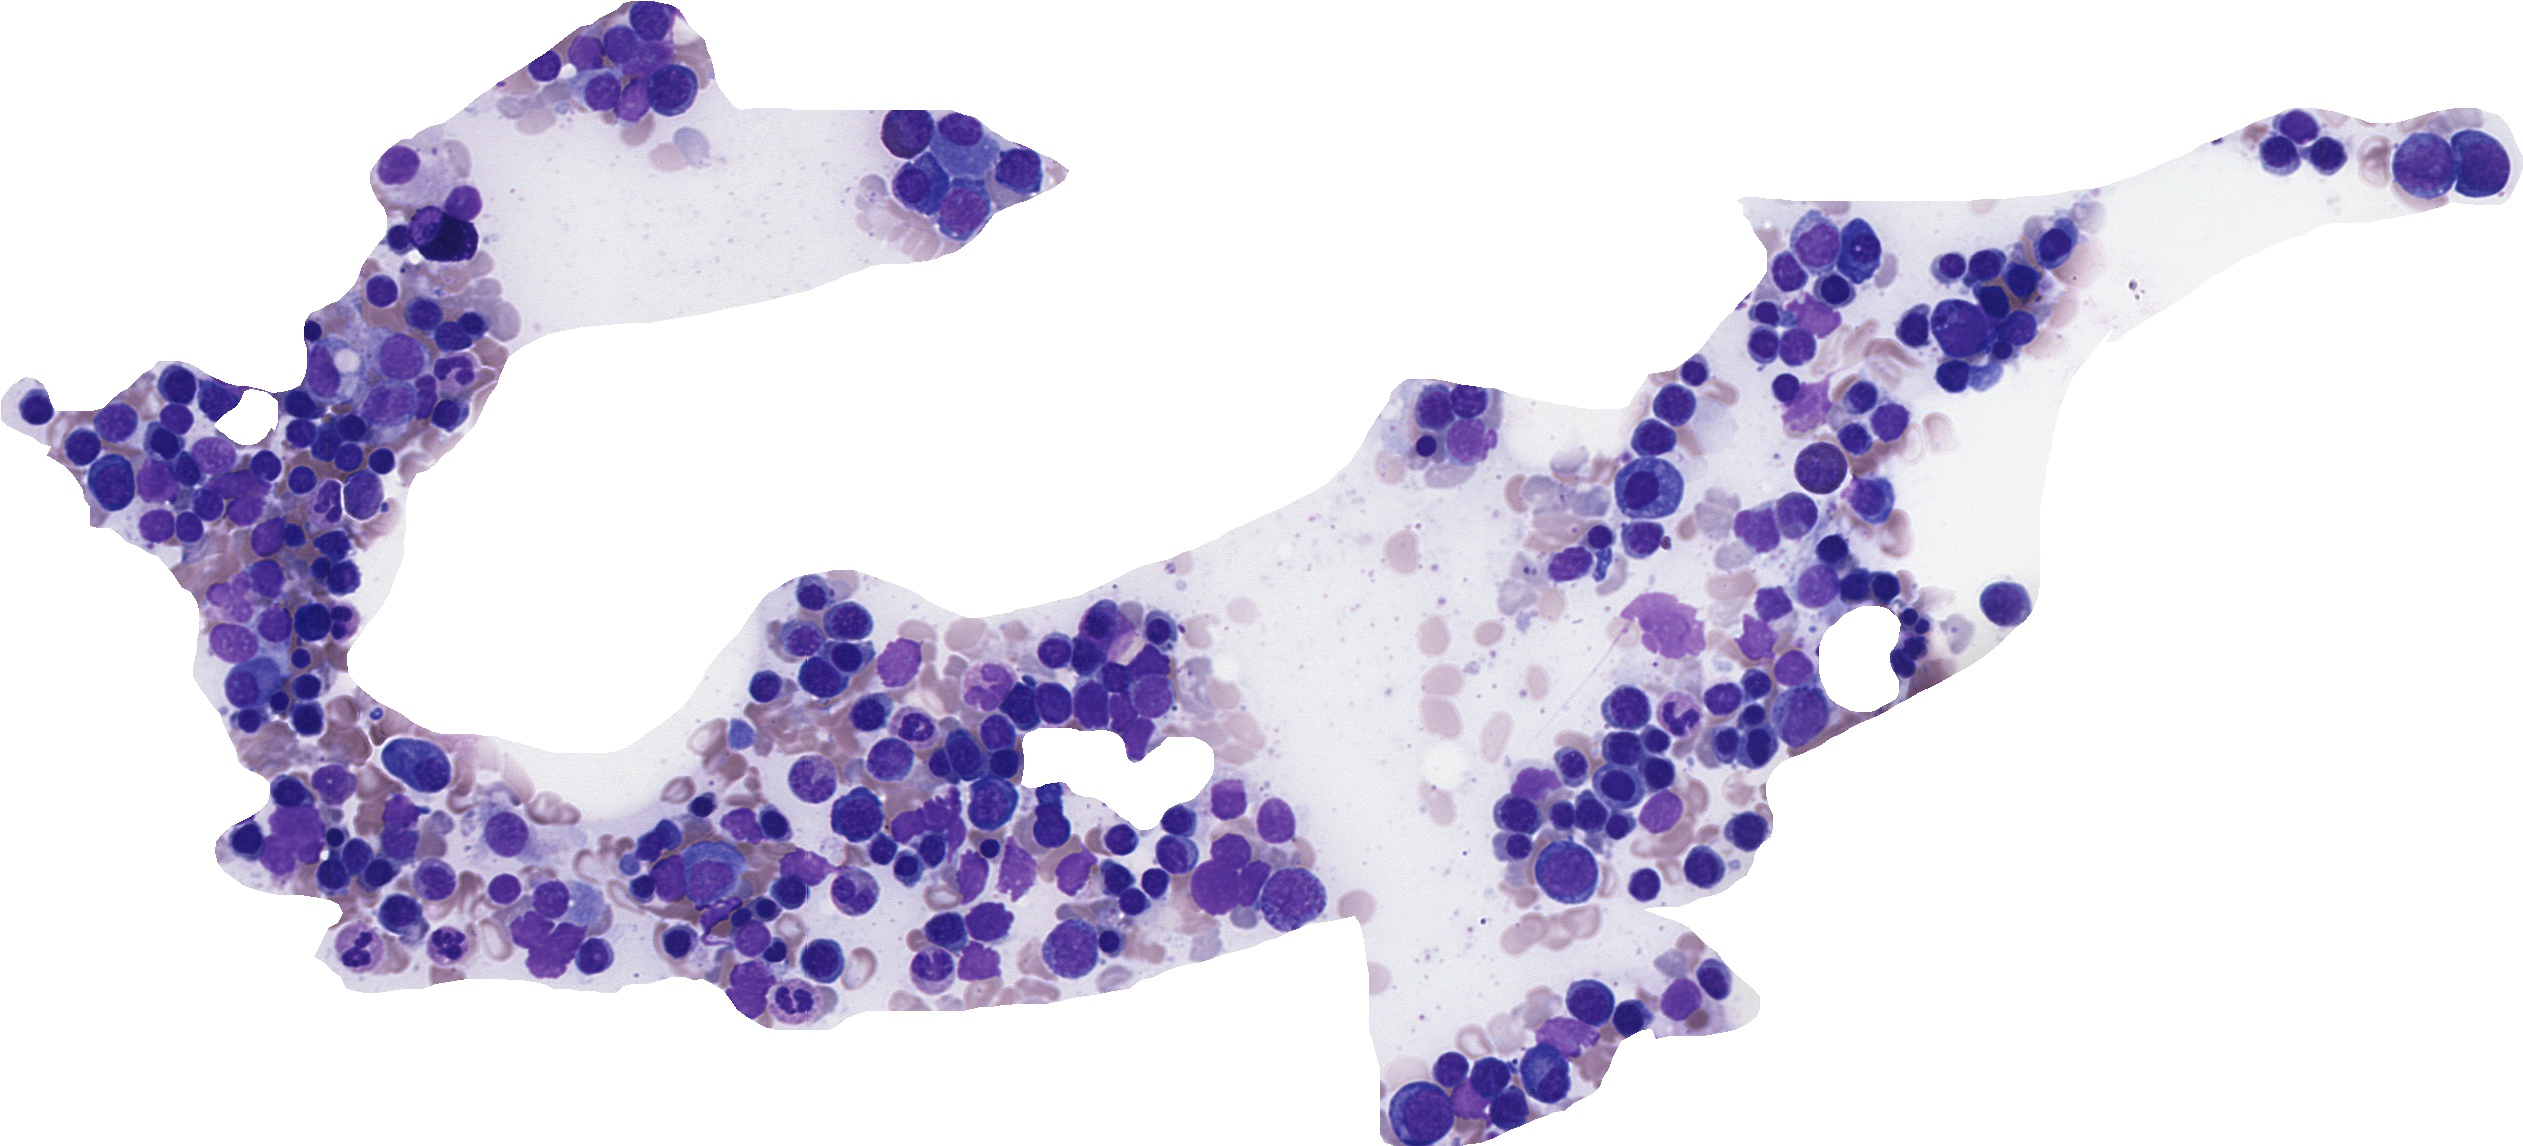objectness: (769, 980, 819, 1032), (425, 922, 475, 974), (306, 473, 356, 525), (787, 753, 837, 805), (85, 457, 137, 507), (320, 554, 372, 604), (523, 40, 573, 92), (439, 177, 491, 227), (1884, 592, 1936, 642), (1751, 576, 1801, 628), (1965, 275, 2015, 327), (151, 394, 203, 444), (1228, 856, 1278, 908), (277, 378, 327, 430), (1995, 253, 2047, 303), (933, 806, 985, 856), (1030, 679, 1080, 731), (642, 811, 692, 863), (727, 914, 777, 966), (645, 858, 697, 908), (1731, 613, 1781, 665), (1768, 642, 1818, 694), (1762, 246, 1812, 298), (994, 143, 1044, 195), (1574, 510, 1624, 562), (1601, 679, 1651, 731), (962, 779, 1014, 829), (1836, 370, 1886, 422), (764, 868, 816, 917), (1081, 917, 1133, 967), (970, 707, 1022, 756), (311, 811, 360, 863), (1564, 980, 1614, 1032), (1648, 378, 1698, 430), (1836, 222, 1886, 272), (228, 658, 278, 708), (898, 159, 948, 209), (1521, 1053, 1570, 1103), (396, 740, 446, 790), (410, 855, 460, 905), (319, 597, 368, 647), (333, 927, 383, 977), (965, 665, 1015, 715), (891, 702, 941, 752), (430, 344, 479, 394), (1653, 694, 1702, 744), (1770, 484, 1820, 534), (1796, 443, 1846, 493), (885, 103, 935, 153), (909, 946, 959, 996), (829, 868, 879, 917), (1932, 301, 1982, 351), (862, 739, 912, 789), (1126, 670, 1176, 719), (378, 328, 428, 378), (1545, 848, 1595, 898), (1046, 924, 1096, 974), (940, 183, 990, 233), (2459, 142, 2509, 192), (1401, 1090, 1451, 1140), (1266, 871, 1316, 921), (1775, 689, 1825, 739), (2401, 143, 2451, 193), (479, 810, 529, 859), (1786, 380, 1836, 430), (1693, 953, 1743, 1003), (1543, 538, 1593, 587), (190, 431, 240, 481), (249, 599, 299, 649), (402, 369, 452, 418), (288, 600, 338, 650), (1541, 1009, 1591, 1059), (1123, 637, 1173, 687), (1632, 716, 1681, 766), (1113, 715, 1163, 765), (478, 866, 528, 916), (1595, 802, 1644, 851), (270, 510, 320, 560), (1841, 472, 1891, 521), (610, 76, 660, 126), (243, 510, 293, 560), (1595, 761, 1644, 811), (257, 678, 307, 728), (1186, 859, 1236, 909), (331, 831, 381, 880), (243, 441, 293, 491), (373, 821, 423, 871), (298, 542, 348, 592), (1736, 505, 1786, 555), (1060, 633, 1110, 682), (994, 682, 1044, 732), (1891, 623, 1941, 673), (1879, 637, 1929, 687), (248, 831, 298, 880), (578, 64, 628, 114), (129, 502, 179, 552), (1928, 351, 1978, 401), (1257, 798, 1307, 848), (1759, 364, 1809, 414), (311, 518, 360, 568), (372, 138, 422, 188), (1701, 718, 1751, 768), (1805, 521, 1855, 571), (153, 359, 203, 409), (545, 913, 595, 963), (1097, 689, 1147, 739), (275, 802, 325, 851), (521, 938, 571, 988), (1831, 560, 1881, 610), (1698, 674, 1747, 724), (619, 34, 669, 84), (779, 843, 829, 893), (220, 818, 270, 868), (1068, 679, 1118, 729), (563, 880, 613, 930), (1022, 800, 1072, 850), (988, 847, 1038, 897), (1445, 415, 1495, 465), (138, 418, 188, 468), (360, 380, 410, 430), (936, 121, 986, 171), (265, 769, 315, 819), (885, 798, 935, 848), (88, 396, 138, 446), (1632, 789, 1681, 839), (684, 847, 734, 897), (278, 457, 328, 507), (1858, 563, 1908, 613), (1727, 692, 1776, 742), (352, 850, 402, 900), (1739, 286, 1789, 336), (283, 662, 333, 711), (224, 695, 274, 745), (1789, 291, 1839, 341), (724, 980, 774, 1030), (56, 422, 106, 472), (1899, 600, 1949, 650), (949, 851, 999, 901), (1792, 559, 1842, 608), (877, 639, 927, 689), (965, 897, 1015, 946), (1792, 221, 1842, 270), (722, 803, 772, 853), (1643, 600, 1693, 650), (1025, 773, 1075, 822), (327, 433, 377, 483), (916, 790, 965, 840), (204, 623, 254, 673), (311, 758, 360, 808), (163, 444, 212, 494), (240, 554, 290, 604), (562, 26, 611, 76), (1735, 721, 1784, 771), (164, 502, 214, 552), (751, 929, 801, 979), (954, 934, 1004, 983), (127, 456, 177, 505), (1615, 464, 1665, 513), (1657, 974, 1707, 1024), (328, 402, 378, 452), (357, 439, 407, 489), (1865, 394, 1915, 444), (307, 850, 357, 900), (505, 908, 555, 958), (277, 636, 327, 686), (377, 787, 426, 837), (718, 893, 768, 943), (2029, 219, 2079, 269), (1636, 750, 1686, 800), (1049, 847, 1099, 897), (298, 349, 348, 399), (603, 840, 653, 890), (1207, 826, 1257, 876), (1204, 777, 1253, 827), (595, 23, 645, 72), (1728, 660, 1778, 710), (1508, 755, 1558, 805), (211, 571, 261, 621), (526, 876, 576, 925), (1091, 653, 1141, 703), (623, 822, 673, 872), (980, 740, 1030, 790), (1073, 597, 1123, 647), (285, 694, 335, 744), (220, 486, 270, 536), (722, 951, 772, 1001), (208, 460, 257, 510), (714, 707, 764, 756), (1443, 1077, 1493, 1127), (1424, 1043, 1474, 1093), (1442, 377, 1492, 427), (180, 481, 230, 531), (1113, 876, 1163, 925), (301, 423, 351, 473), (423, 390, 473, 439), (425, 311, 475, 361), (1089, 859, 1139, 909), (397, 290, 447, 340), (1622, 861, 1672, 911), (570, 930, 619, 980), (1097, 814, 1147, 864), (356, 267, 405, 317), (274, 410, 323, 460), (1130, 859, 1179, 909), (1992, 303, 2042, 352), (1772, 320, 1821, 370), (1030, 626, 1080, 676), (2275, 101, 2325, 151), (843, 690, 893, 740), (1495, 785, 1545, 835), (1615, 513, 1665, 563), (793, 655, 843, 705), (735, 665, 785, 715), (969, 822, 1019, 872), (940, 732, 990, 782), (1598, 724, 1648, 774), (821, 633, 870, 682), (447, 298, 497, 348), (854, 824, 904, 874), (822, 596, 872, 645), (1537, 790, 1587, 840), (1413, 381, 1463, 431), (1603, 996, 1653, 1046), (676, 781, 726, 831), (1550, 742, 1599, 792), (652, 921, 702, 971), (1828, 412, 1878, 462), (909, 827, 959, 877), (1677, 845, 1727, 895), (1924, 240, 1974, 290), (1461, 1051, 1511, 1101), (1403, 422, 1453, 472), (1484, 1086, 1533, 1136), (1958, 238, 2008, 288), (644, 64, 694, 114), (1136, 605, 1186, 655), (788, 570, 838, 620), (922, 908, 972, 958), (2253, 129, 2303, 179), (916, 739, 965, 789), (1152, 797, 1202, 847), (619, 864, 669, 914), (779, 612, 829, 662), (1809, 266, 1858, 315), (1630, 412, 1680, 462), (795, 938, 845, 988), (1723, 806, 1773, 856), (2306, 129, 2356, 179), (1493, 824, 1543, 874), (1150, 831, 1200, 880), (830, 792, 880, 842), (1670, 348, 1720, 398), (1887, 301, 1937, 351), (191, 378, 241, 428), (739, 884, 788, 934), (375, 887, 425, 937), (1978, 327, 2027, 377), (882, 843, 932, 893), (748, 800, 798, 850), (375, 214, 425, 264), (1738, 320, 1788, 370), (1566, 790, 1615, 840), (1981, 575, 2031, 625), (626, 0, 676, 48)
